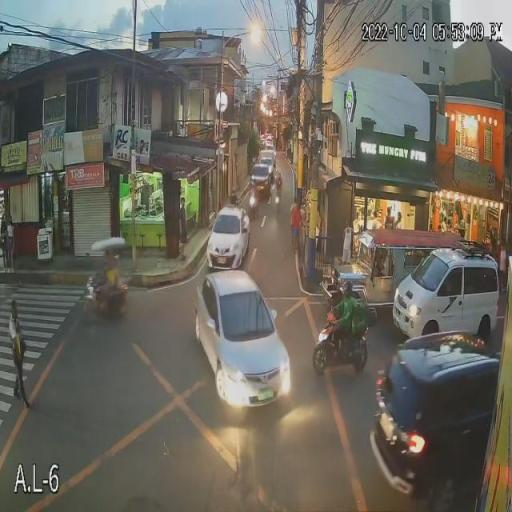helmet: (341, 281, 356, 306)
motorcycle: (311, 309, 370, 371)
rider: (330, 280, 354, 348)
